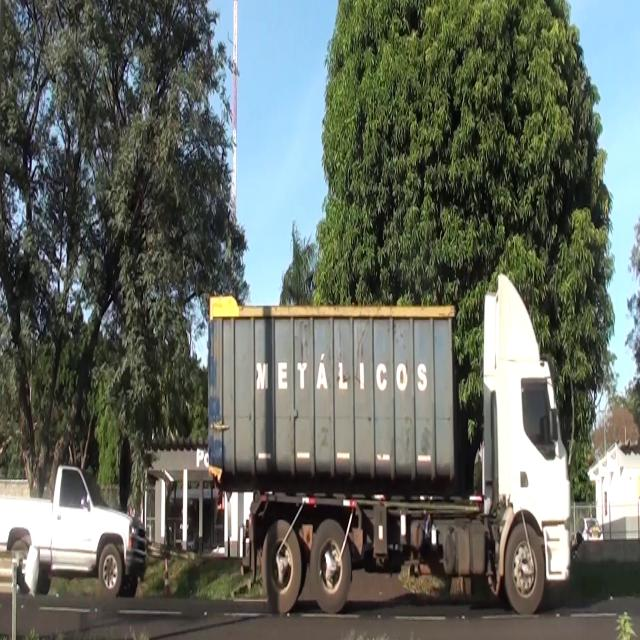-axle: (505, 516, 548, 616), (310, 520, 351, 612), (262, 521, 302, 609)
